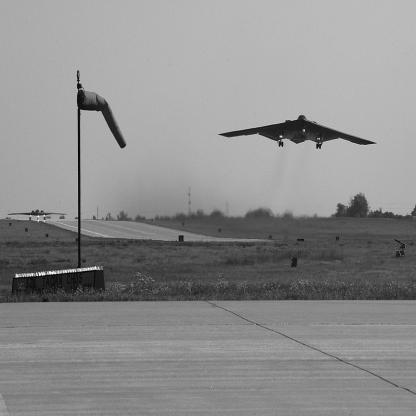B2: (219, 116, 379, 151), (8, 210, 68, 221)
